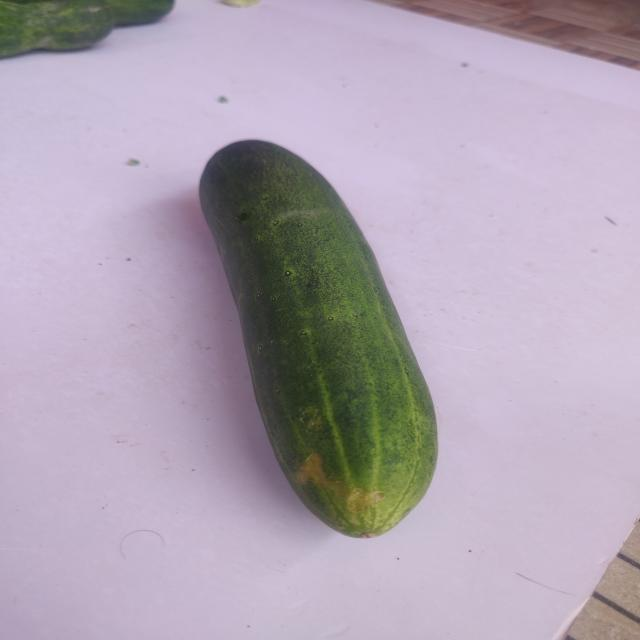Cucumber: (169, 122, 453, 546)
